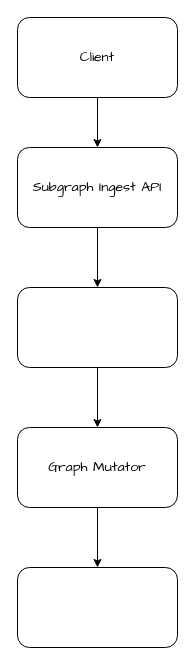
The diagram is 195 pixels wide and 665 high, and some of its shapes have lost their labels. Each missing label, with the box of its shape:
Knative: (16, 286, 178, 368)
Knowledge Graph: (16, 566, 178, 648)
